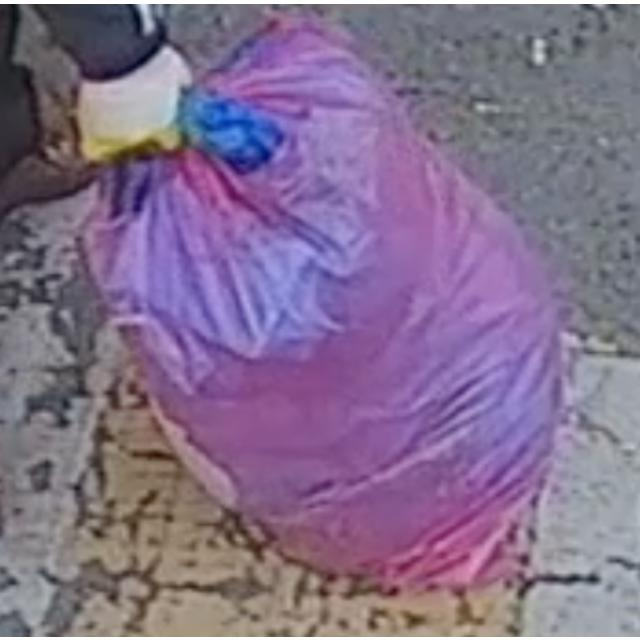other_trashbag: (87, 18, 555, 586)
